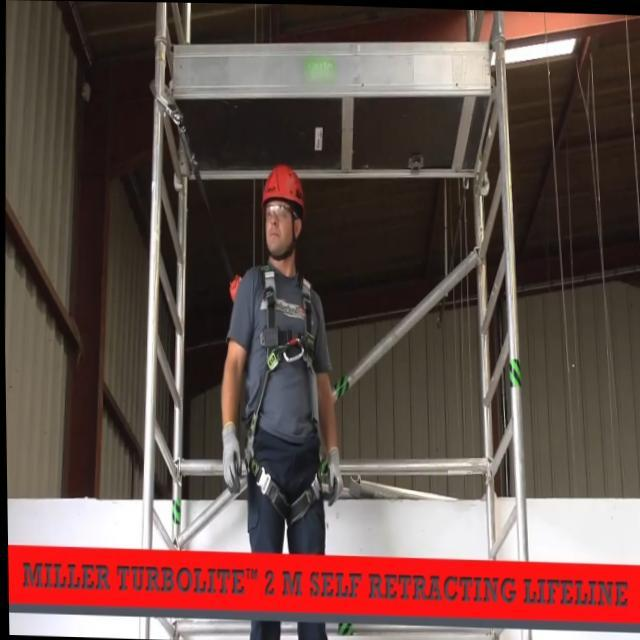belt: (240, 249, 330, 534)
